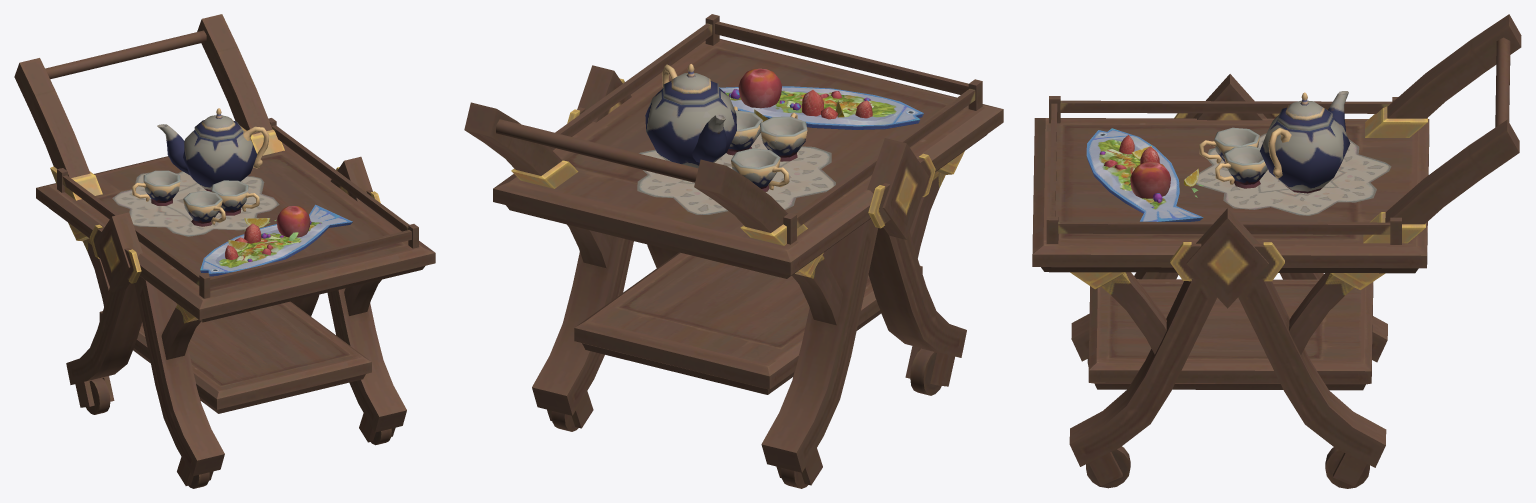
Rendered from Homeworld_Interior_Md_Decoration_Prop_TeaCart_01_Vo.fbx.
The picture shows the model from 3 angles, left to right: view 1: azimuth 30°, elevation 25°; view 2: azimuth 150°, elevation 25°; view 3: azimuth 270°, elevation 25°; orthographic projection. The views are drawn at different scales.
Visible parts, largest first — view 1: Indoor_Md_Prop_Gardencart_01_Vo, Indoor_Md_Prop_Teapot01_Vo, Indoor_Md_Prop_Saladplate_01_Vo; view 2: Indoor_Md_Prop_Gardencart_01_Vo, Indoor_Md_Prop_Teapot01_Vo, Indoor_Md_Prop_Saladplate_01_Vo; view 3: Indoor_Md_Prop_Gardencart_01_Vo, Indoor_Md_Prop_Teapot01_Vo, Indoor_Md_Prop_Saladplate_01_Vo.
Boxes of the visible parts, bbox=[...] form: Indoor_Md_Prop_Gardencart_01_Vo: bbox=[14, 14, 435, 488]; Indoor_Md_Prop_Teapot01_Vo: bbox=[112, 108, 279, 236]; Indoor_Md_Prop_Saladplate_01_Vo: bbox=[200, 204, 352, 276]; Indoor_Md_Prop_Gardencart_01_Vo: bbox=[464, 14, 1003, 488]; Indoor_Md_Prop_Teapot01_Vo: bbox=[637, 64, 835, 214]; Indoor_Md_Prop_Saladplate_01_Vo: bbox=[719, 68, 923, 129]; Indoor_Md_Prop_Gardencart_01_Vo: bbox=[1032, 14, 1521, 488]; Indoor_Md_Prop_Teapot01_Vo: bbox=[1196, 91, 1391, 215]; Indoor_Md_Prop_Saladplate_01_Vo: bbox=[1086, 128, 1203, 221].
Size of the model in its own units: 0.7973 by 0.9273 by 1.14.
